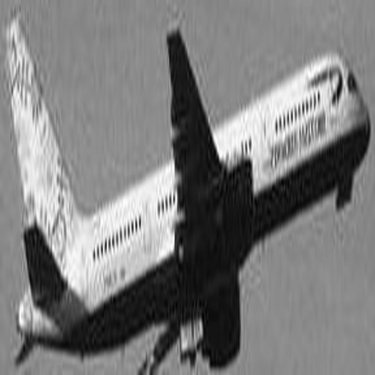airplane: (2, 1, 365, 366)
